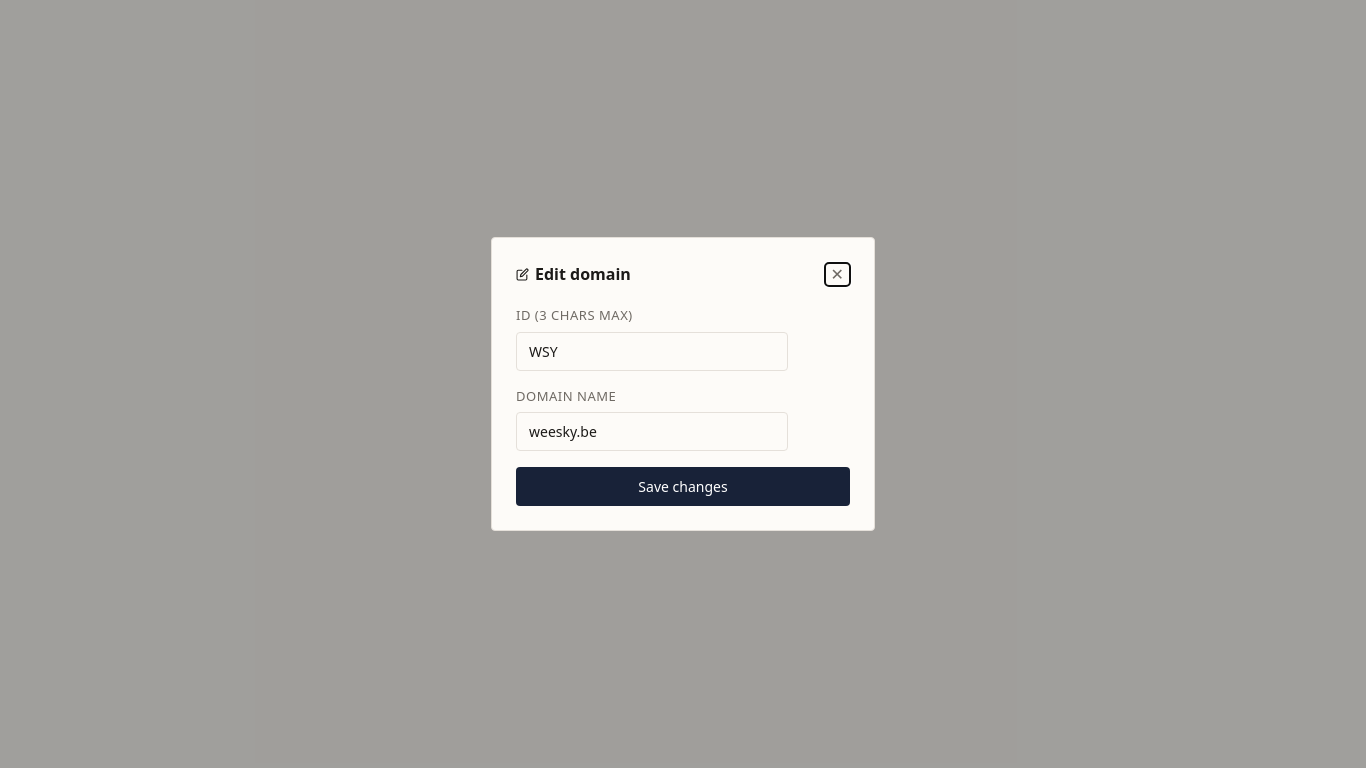
Test case: AddEditDomainModal — edit mode › shows the local fallback when update API fails
Click the button "Save changes" at (683, 486), box [516,467,850,506]
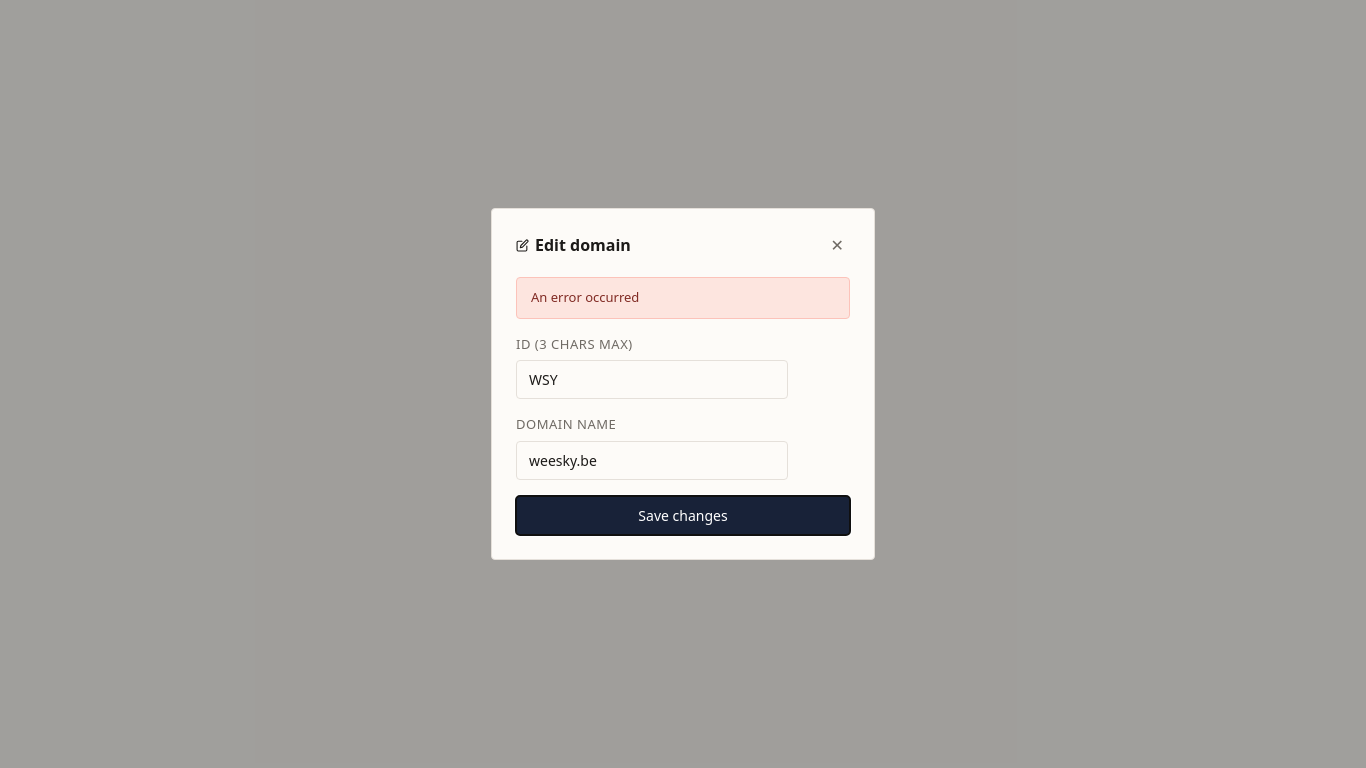
Check: the text "An error occurred" is shown, box [516,277,850,319]
